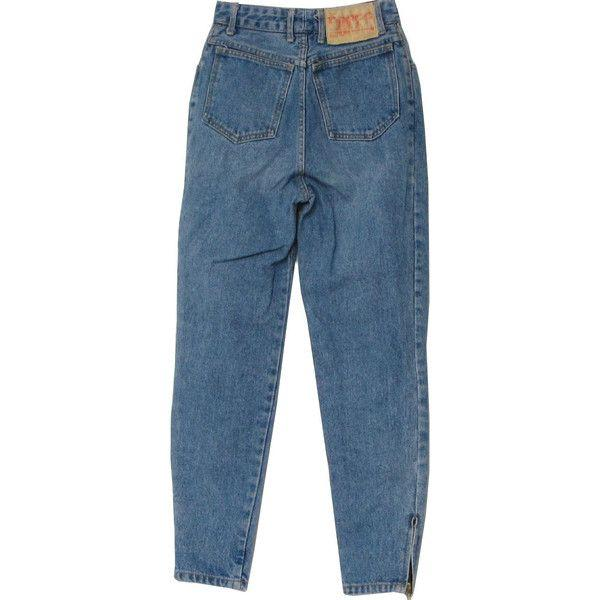Jeans: (163, 0, 437, 600)
